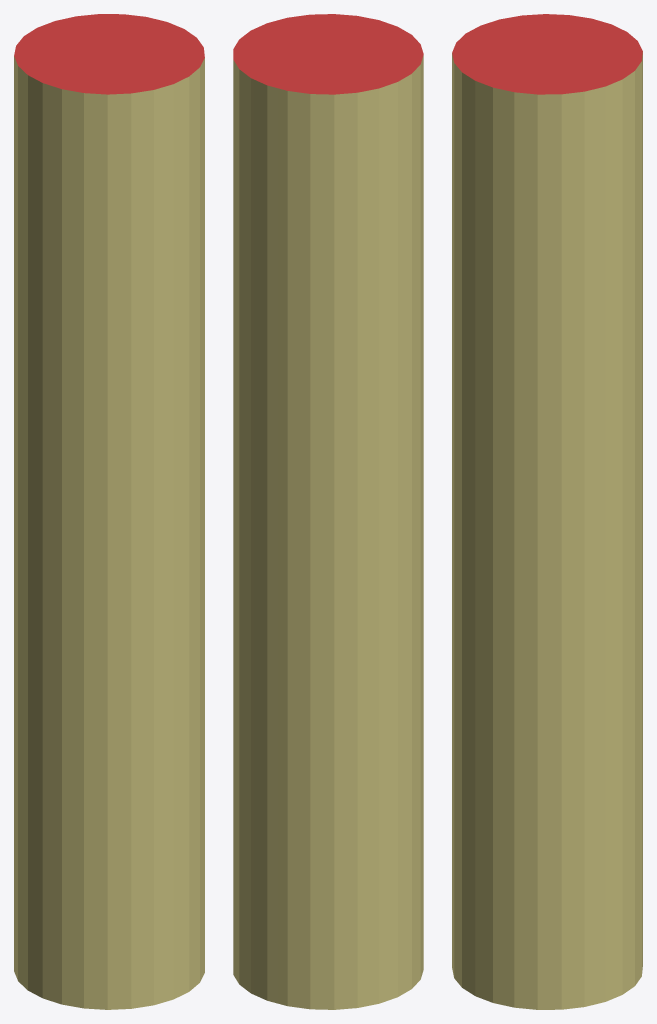
3 views of the same model, side by side, from view 1: azimuth 30°, elevation 25°; view 2: azimuth 150°, elevation 25°; view 3: azimuth 270°, elevation 25° (orthographic).
Bounding box in the file's own units: 3.12 × 3.12 × 16.53.
